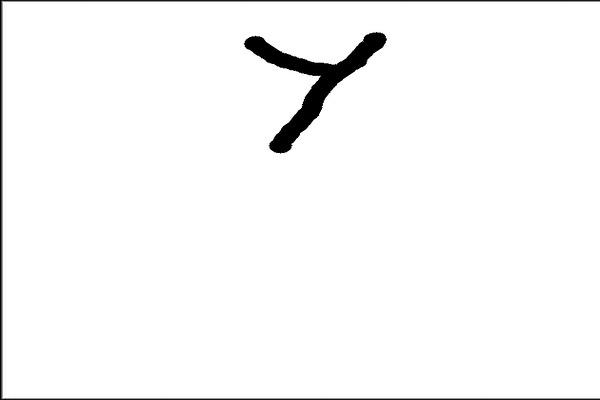Y: (234, 21, 397, 162)
